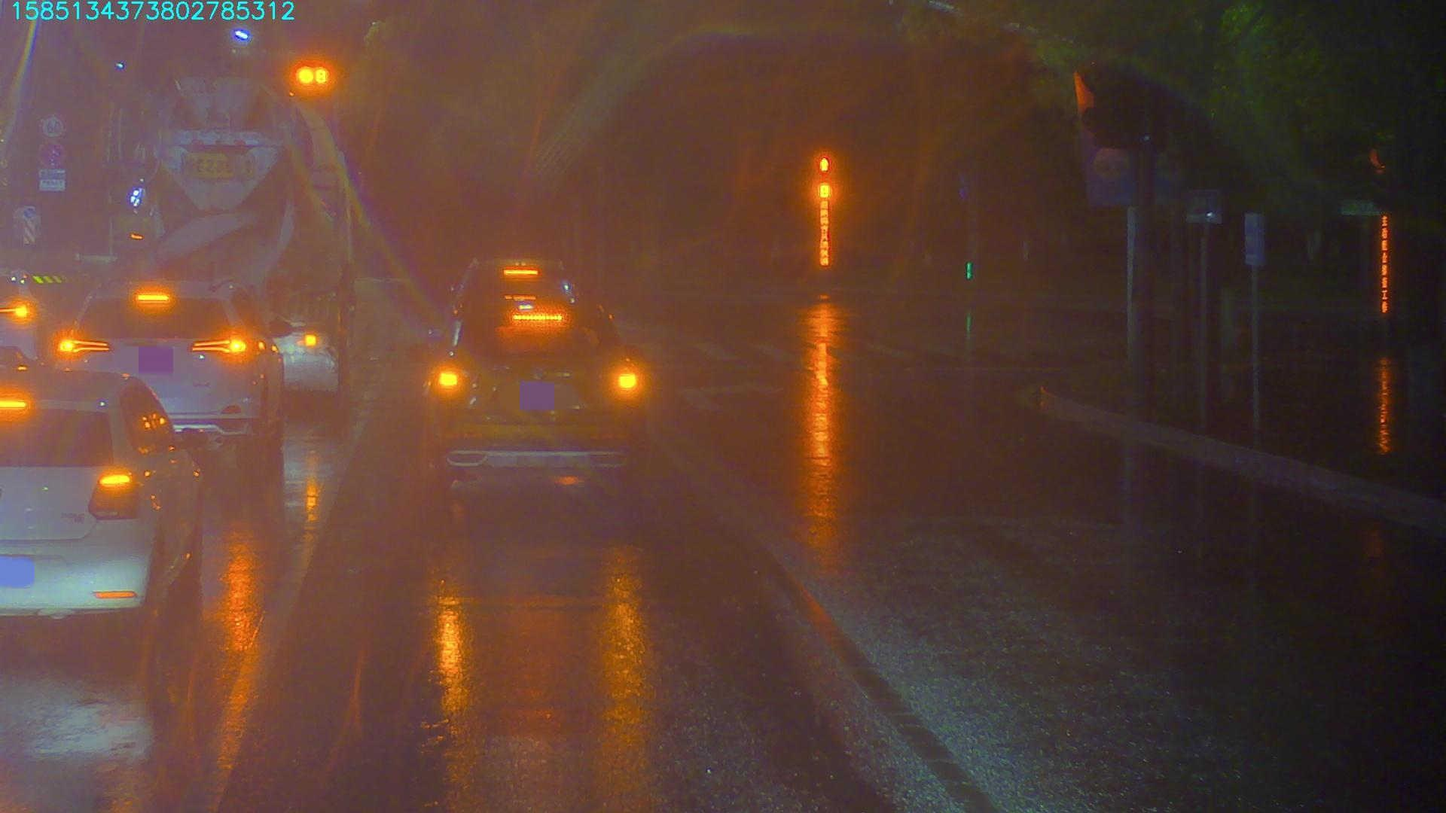red: (288, 56, 337, 93)
